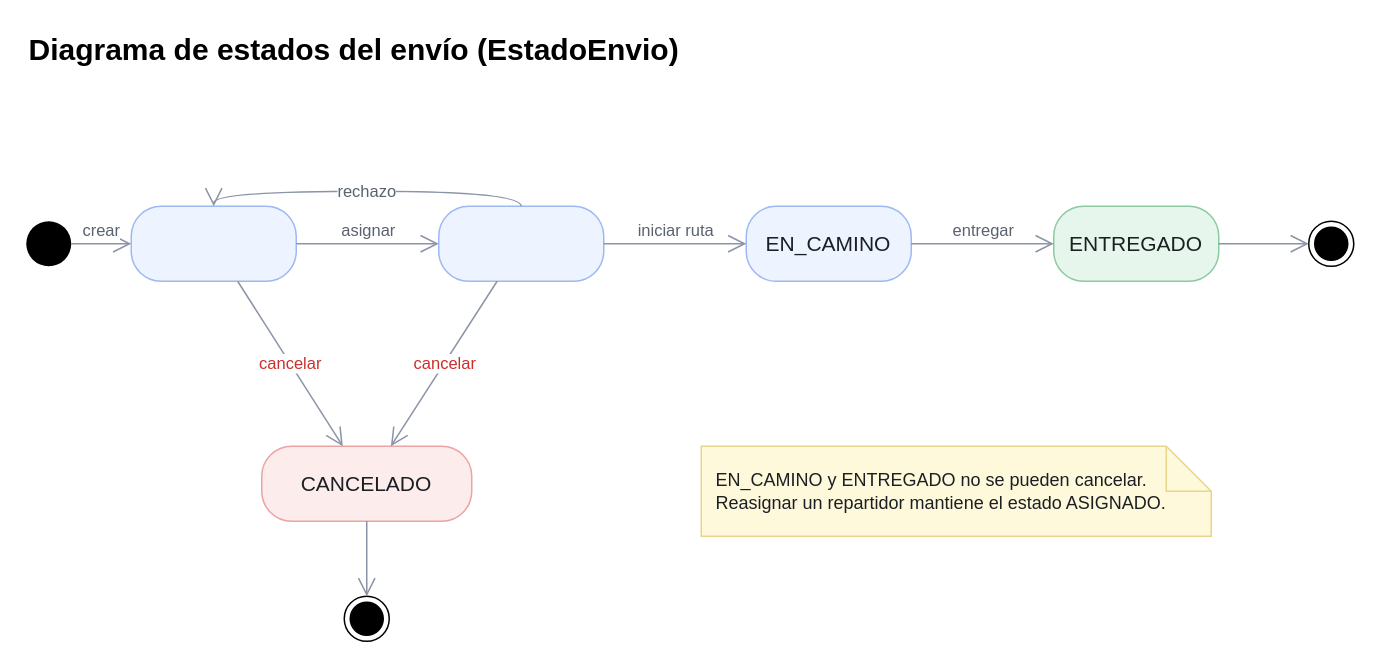
Image size: 1380x668. Some labels were removed from this diagram. The shapes that lost their labels are listed below. From the top down, each one's centre as x and y in pixels, then its label:
pixel 213 243: PENDIENTE
pixel 520 243: ASIGNADO
